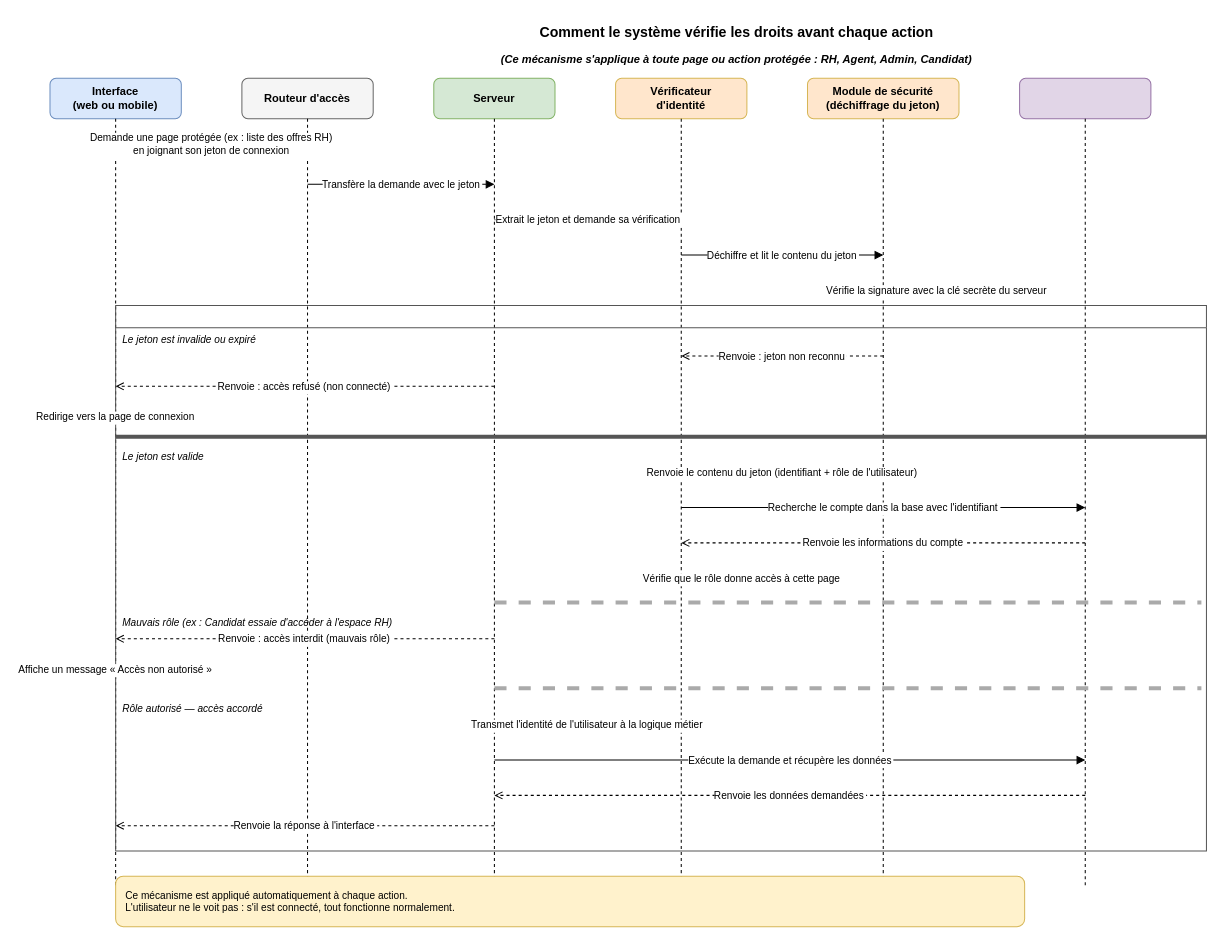
This 1225x944 diagram has some shape labels left out. The box of each missing label's shape, as (x1, y1, x2, y2) in pixels:
alt: (115, 305, 1206, 851)
Base de données: (1019, 77, 1151, 119)
